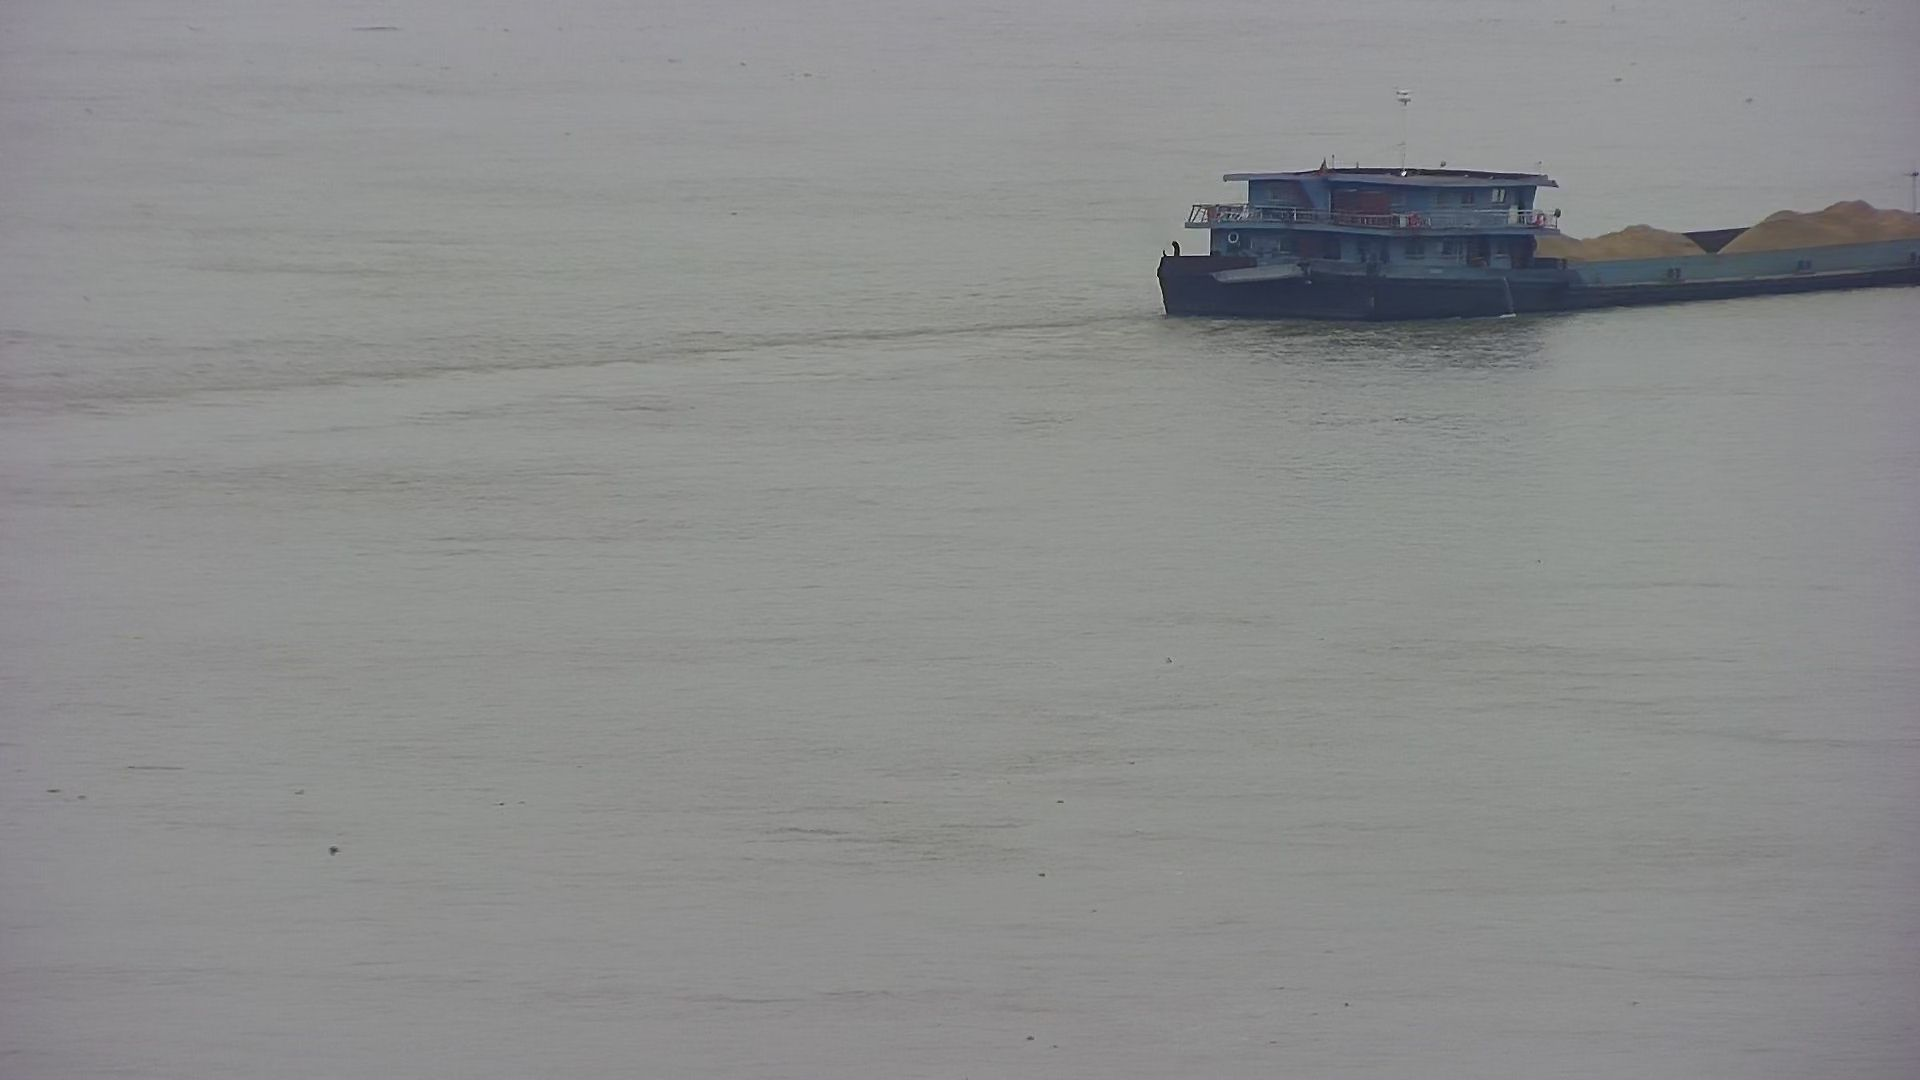ship: (1149, 150, 1920, 345)
